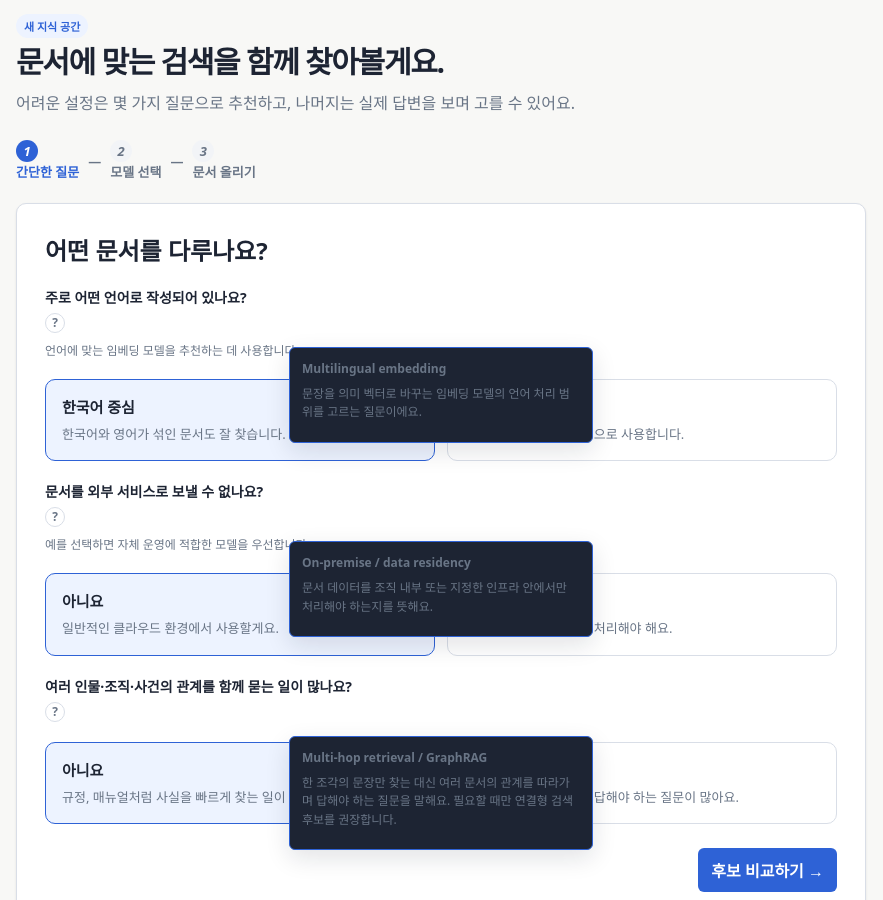
Test case: RagCreatePage › shows actual benchmark metrics only when the latest benchmark exists
Click the button "후보 비교하기 →": click(768, 870) [698,848,837,892]
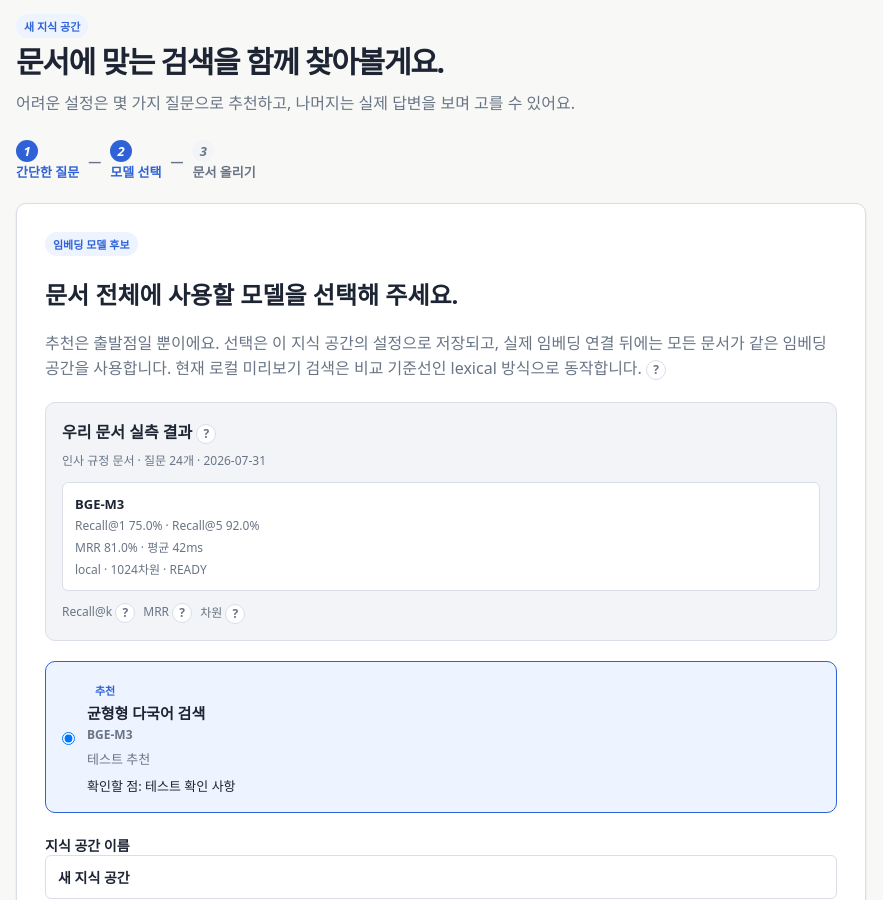
expect the heading "우리 문서 실측 결과 ?" is shown: met, box [62,421,216,444]
expect the text "인사 규정 문서 · 질문 24개 · 2026-07-31" is shown: met, box [62,452,266,469]
expect the text "Recall@1 75.0% · Recall@5 92.0%" is shown: met, box [75,517,259,534]
